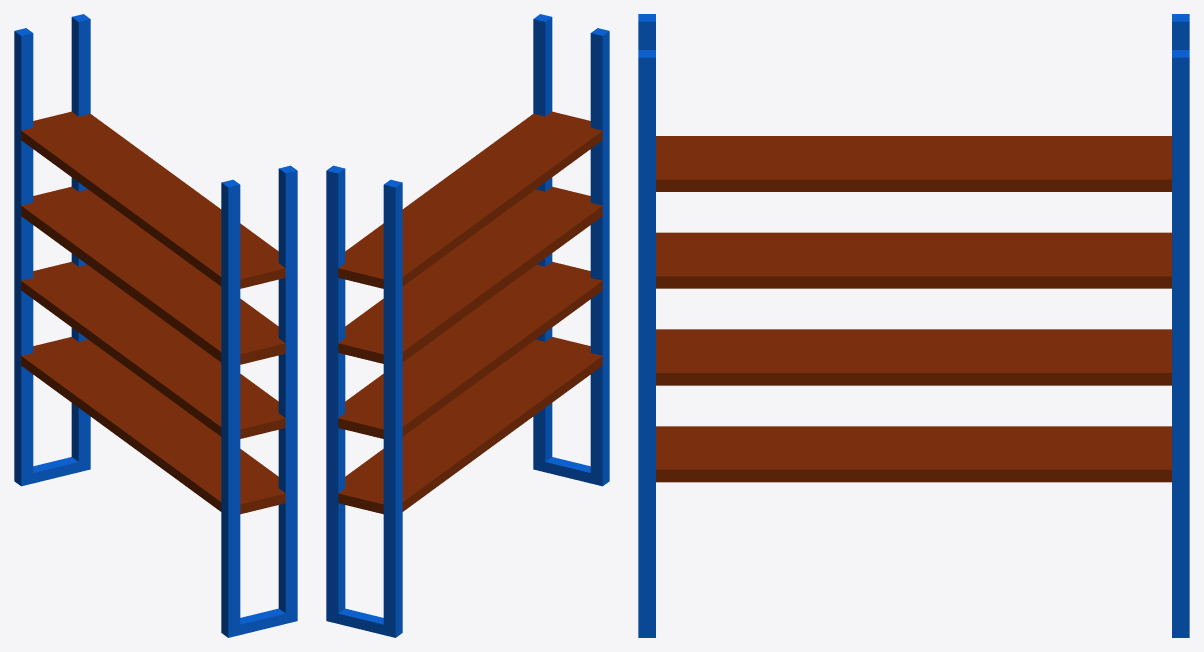
Rendered from PalletRack_25ftx30ft.fbx.
3 views of the same model, side by side, from view 1: azimuth 30°, elevation 25°; view 2: azimuth 150°, elevation 25°; view 3: azimuth 270°, elevation 25° (orthographic). The views are drawn at different scales.
Parts seen in each view (by area): view 1: PalletRack_25ftx30ft; view 2: PalletRack_25ftx30ft; view 3: PalletRack_25ftx30ft.
Part boxes in pixels (x1,y1,x2,y2): PalletRack_25ftx30ft: (14,14,297,637); PalletRack_25ftx30ft: (326,14,609,637); PalletRack_25ftx30ft: (638,14,1189,637).
Size of the model in its own units: 147 by 914 by 787.
